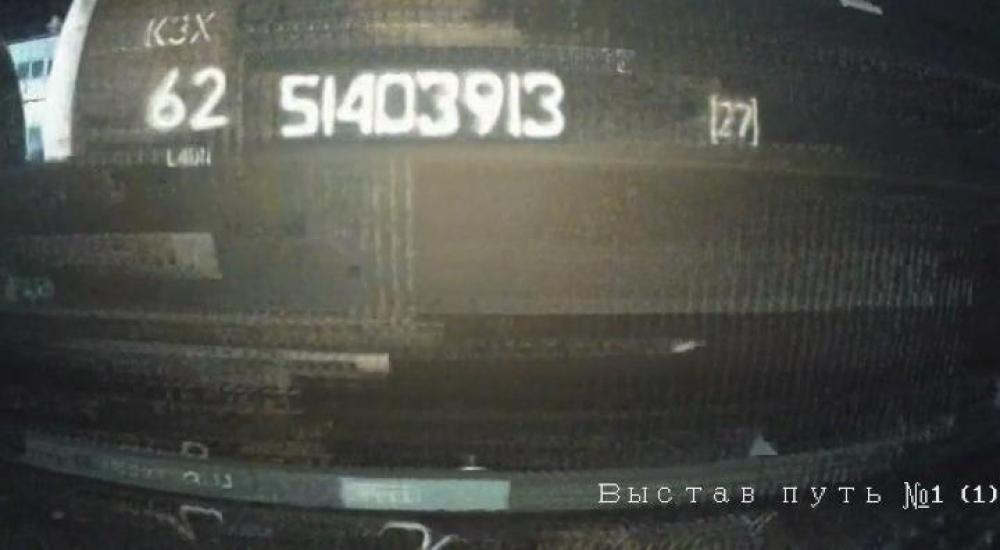Wagon-number: (273, 64, 571, 150)
